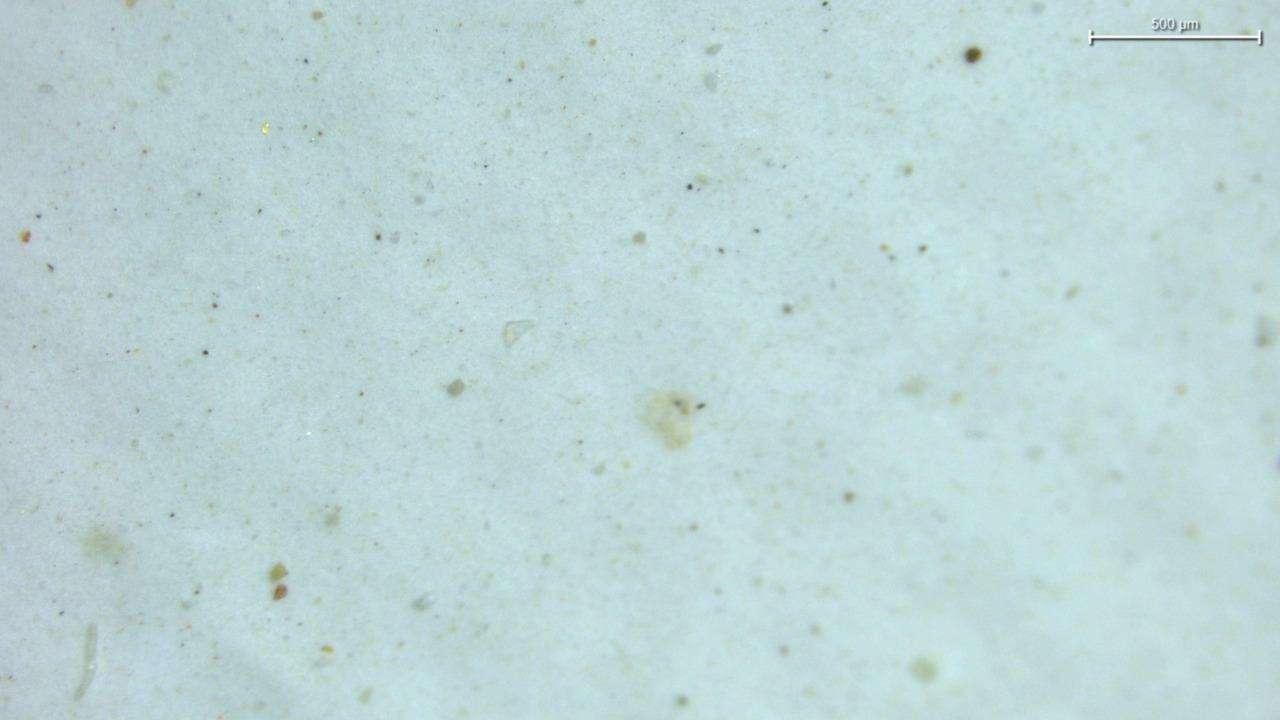microplastic_fragment: (502, 320, 534, 348)
